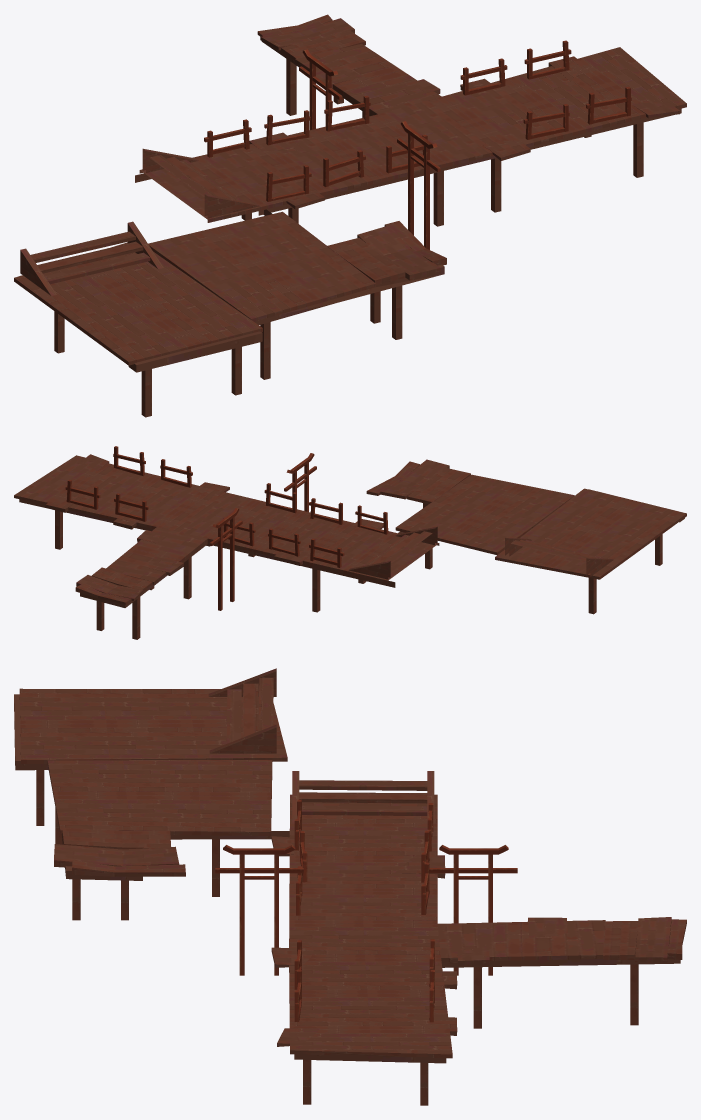
Rendered from ZYthi_CLF_matou01.FBX.
3 views of the same model, one above another, from view 1: azimuth 30°, elevation 25°; view 2: azimuth 150°, elevation 25°; view 3: azimuth 270°, elevation 25° (orthographic). The views are drawn at different scales.
Visible parts, largest first — view 1: ZYthi_CLF_matou01; view 2: ZYthi_CLF_matou01; view 3: ZYthi_CLF_matou01.
Boxes of the visible parts, left/top/right/bottom form: ZYthi_CLF_matou01: left=14, top=14, right=686, bottom=417; ZYthi_CLF_matou01: left=14, top=446, right=686, bottom=639; ZYthi_CLF_matou01: left=14, top=668, right=686, bottom=1105.
Size of the model in its own units: 2486 by 407 by 1928.
